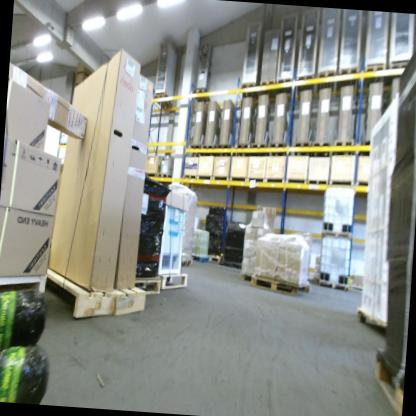pallet: (44, 264, 155, 328), (370, 347, 406, 416), (0, 254, 49, 300), (240, 273, 314, 294), (128, 265, 162, 305), (251, 274, 304, 299), (354, 302, 387, 338), (162, 267, 193, 296), (362, 59, 387, 93), (337, 63, 360, 95), (314, 68, 337, 98), (294, 71, 316, 100), (256, 73, 277, 100), (274, 74, 297, 98), (317, 278, 350, 294), (318, 228, 354, 242), (190, 85, 212, 107), (153, 90, 174, 112), (311, 137, 331, 157), (332, 137, 356, 153), (241, 80, 259, 101), (267, 140, 290, 156), (388, 59, 411, 75), (293, 137, 312, 156), (233, 141, 252, 157), (214, 143, 235, 157), (249, 141, 269, 155), (192, 254, 210, 266), (207, 251, 223, 264), (199, 141, 216, 153), (186, 142, 201, 154), (156, 172, 173, 181), (180, 258, 192, 269)
